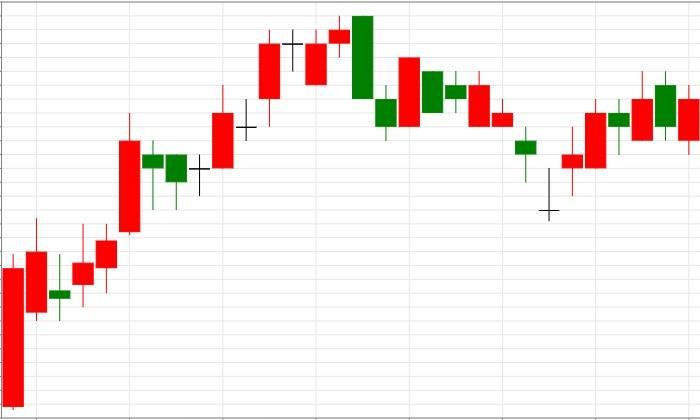bearish_engulfing_fall: (189, 15, 374, 196)
